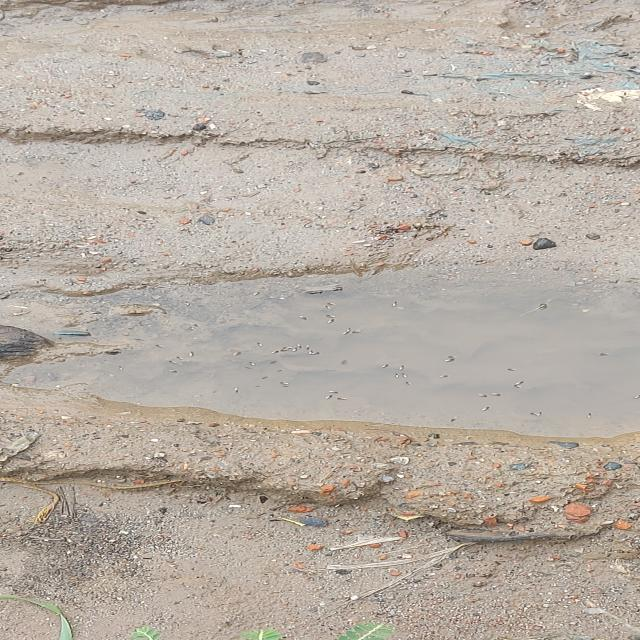Breeding Place: (0, 265, 640, 439)
